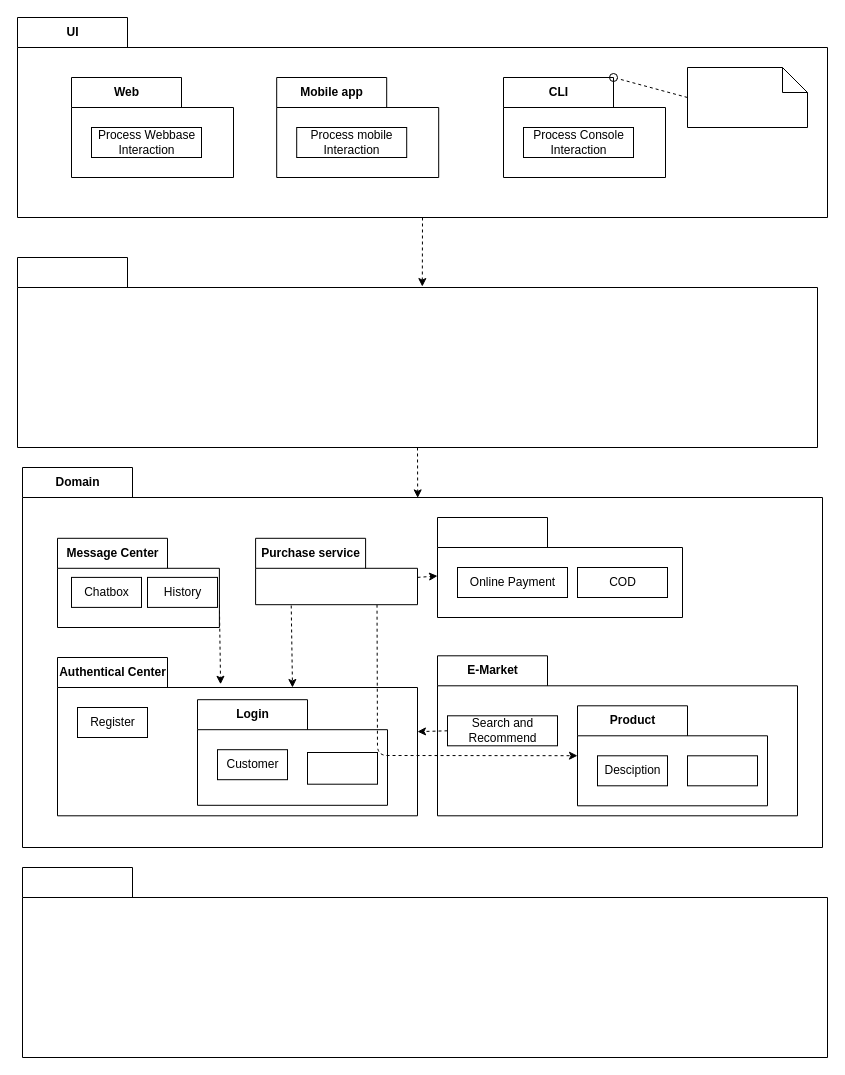
The diagram is 845 pixels wide and 1075 high, and some of its shapes have lost their labels. Each missing label, with the centre of its shape:
"API" goes at [417,352].
"For prototyping, experiment" goes at [747,97].
"Payment Manager" goes at [559,567].
"Rate" goes at [722,770].
"Seller" goes at [342,768].
"Technical Service" goes at [425,962].
